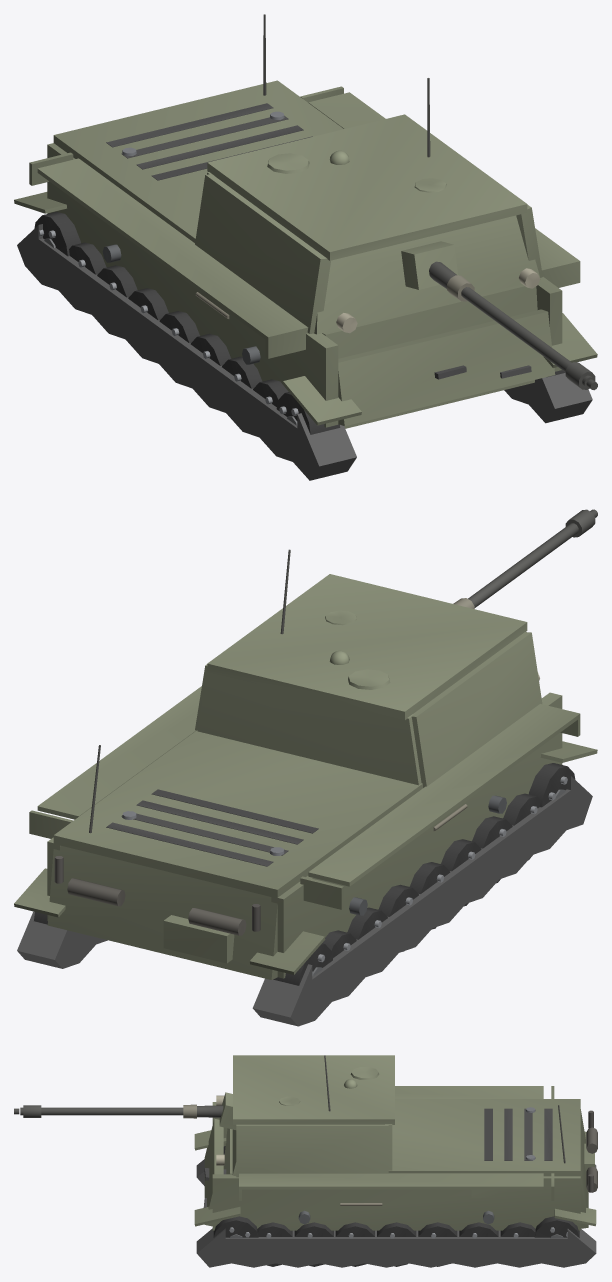
3 renders of one model, top to bottom at view 1: azimuth 30°, elevation 25°; view 2: azimuth 150°, elevation 25°; view 3: azimuth 270°, elevation 25°, orthographic. The views are drawn at different scales.
Parts seen in each view (by area): view 1: hullSide, turretRoof, tracks, hullTop, lowerPlate, mantlet, turretSide, glacis, barrel, wheel8, wheel7, wheel2 (+5 smaller); view 2: hullTop, hullSide, turretRoof, turretSide, tracks, hullRear, barrel, wheel7, wheel8, wheel4, wheel5, wheel3 (+3 smaller); view 3: hullSide, hullTop, tracks, turretRoof, turretSide, barrel, hullRear, lowerPlate, wheel16, wheel17, mantlet, wheel13 (+7 smaller).
Boxes of the visible parts, x1,y1,x2,y2 form: hullSide: (29, 86, 580, 427); turretRoof: (207, 78, 527, 260); tracks: (14, 192, 597, 480); hullTop: (53, 80, 343, 242); lowerPlate: (338, 309, 555, 426); mantlet: (314, 215, 540, 334); turretSide: (195, 172, 542, 333); glacis: (322, 284, 537, 428); barrel: (429, 261, 597, 390); wheel8: (34, 212, 80, 256); wheel7: (276, 392, 340, 434); wheel2: (128, 288, 168, 320); hullTop: (53, 730, 422, 897); hullSide: (29, 672, 580, 978); turretRoof: (207, 549, 527, 720); turretSide: (195, 632, 542, 787); tracks: (14, 741, 597, 1026); hullRear: (47, 745, 277, 979); barrel: (453, 509, 597, 608); wheel7: (529, 763, 575, 807); wheel8: (273, 943, 332, 985); wheel4: (441, 839, 481, 906); wheel5: (472, 816, 512, 883); wheel3: (409, 862, 450, 929); hullSide: (212, 1086, 580, 1230); hullTop: (388, 1099, 580, 1176); tracks: (194, 1130, 596, 1267); turretRoof: (233, 1055, 394, 1124); turretSide: (236, 1124, 392, 1177); barrel: (14, 1104, 223, 1118); hullRear: (558, 1105, 597, 1228); lowerPlate: (204, 1118, 223, 1226); wheel16: (213, 1216, 258, 1238); wheel17: (534, 1216, 579, 1238); mantlet: (219, 1092, 236, 1175); wheel13: (335, 1222, 374, 1266).
Size of the model in its own units: 4.53 by 4.03 by 11.11.
